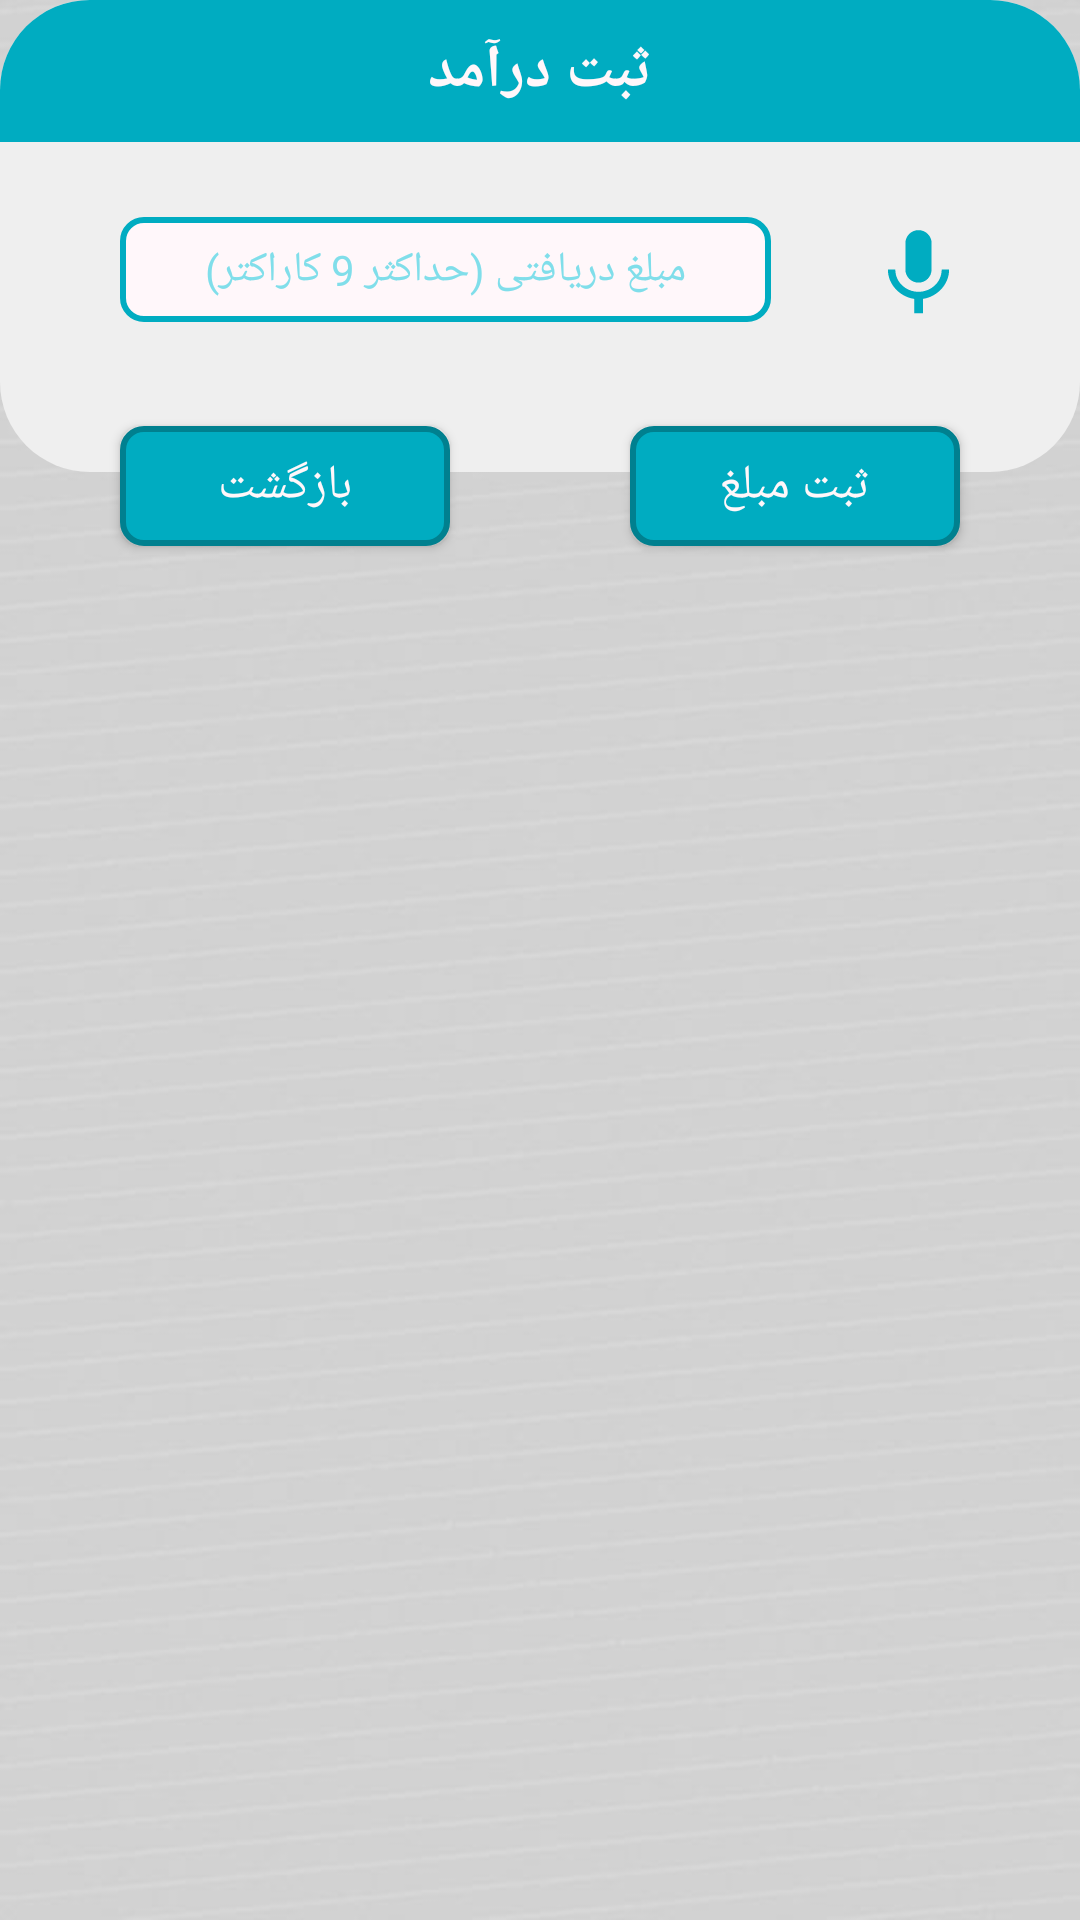

Screen size 1080w x 1920h. Icon name, then its center in pixels as (x=x, y=y):
voice: (x=918, y=272)
